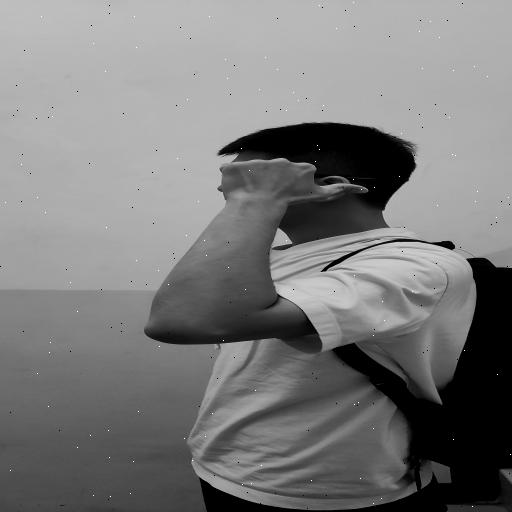back: (180, 149, 387, 214)
